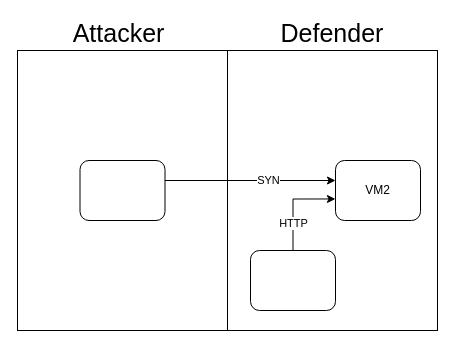
Image size: 455x348. Some labels were removed from this diagram. The shapes that lost their labels are listed below. From the top down, each one's centre as x and y in pixels, then its label:
(122,190): VM1
(293,280): VM3
